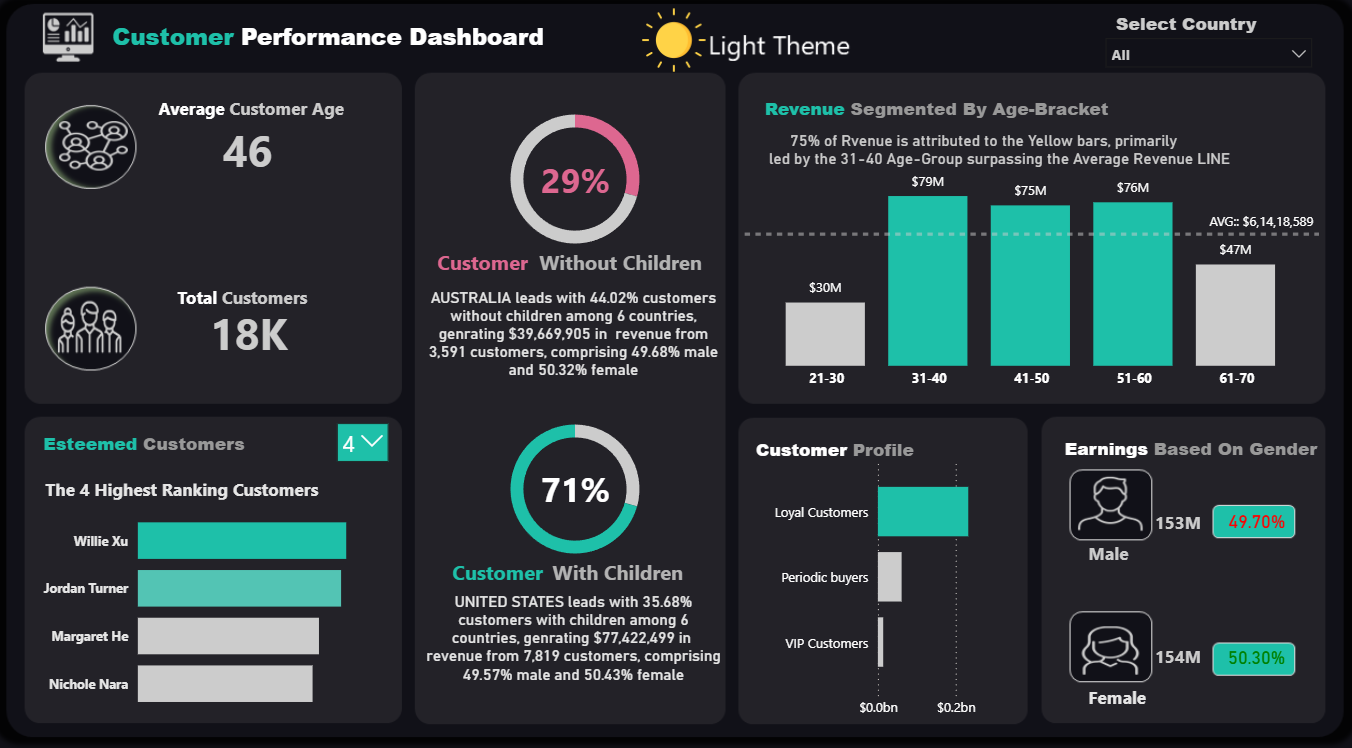

The page's visual inventory and layout, read from the dashboard file:
{"tool":"powerbi","page":{"name":"Page 1","canvas":[1280,720],"ordinal":0},"visuals":[{"type":"lineClusteredColumnComboChart","fields":{"Category":["DimCustomer.Age Category"],"Y":["All measures.Total Revenue"]},"box":[700,159.3,544.2,223.3],"z":0},{"type":"card","fields":{"Values":["customer measures.avg caption"]},"box":[655.8,111.6,543,80.2],"z":1000},{"type":"textbox","box":[718.6,79.1,384.9,64],"z":2000},{"type":"donutChart","fields":{"Y":["customer measures.% cw/oc","customer measures.% cwc"]},"box":[451.5,99,192,160],"z":3000},{"type":"donutChart","fields":{"Y":["customer measures.% cw/oc","customer measures.% cwc"]},"box":[451.5,387,192,160],"z":4000},{"type":"card","fields":{"Values":["customer measures.% cw/oc"]},"box":[483.5,131,128,96],"z":5000},{"type":"card","fields":{"Values":["customer measures.% cwc"]},"box":[483.5,435,128,64],"z":6000},{"type":"textbox","box":[414,238.4,266.3,40.7],"z":7000},{"type":"textbox","box":[427.9,526.7,239.5,44.2],"z":8000},{"type":"card","fields":{"Values":["customer measures.caption customers without children"]},"box":[395.3,266.3,304.7,111.6],"z":9000},{"type":"card","fields":{"Values":["customer measures.caption customers with children"]},"box":[395.3,548.8,304.7,112.8],"z":10000},{"type":"clusteredBarChart","fields":{"Y":["All measures.Total Revenue"],"Category":["DimCustomer.customer type"]},"box":[720.9,427.9,239.5,260.5],"z":11000},{"type":"clusteredBarChart","fields":{"Category":["DimCustomer.Full Name"],"Y":["customer measures.dynamic customers"]},"box":[46.5,467.4,298.8,222.1],"z":12000},{"type":"slicer","fields":{"Values":["dynamic customers.dynamic customers"]},"box":[315.1,395.3,68.6,53.5],"z":13000},{"type":"card","fields":{"Values":["customer measures.% female"]},"box":[1147.7,605.8,66.3,38.4],"z":14000},{"type":"card","fields":{"Values":["customer measures.% male"]},"box":[1148.8,479.1,65.1,38.4],"z":15000},{"type":"card","fields":{"Values":["customer measures.Avg customer Age"]},"box":[195.3,95.3,94.2,112.8],"z":16000},{"type":"card","fields":{"Values":["customer measures.#customers"]},"box":[198.8,286,89.5,72.1],"z":17000},{"type":"textbox","box":[154.7,96.5,215.1,54.7],"z":18000},{"type":"textbox","box":[172.1,272.1,141.9,52.3],"z":19000},{"type":"textbox","box":[1019.8,510.5,59.3,31.4],"z":20000},{"type":"textbox","box":[1019.8,644.2,67.4,43],"z":21000},{"type":"card","fields":{"Values":["customer measures.title top customers"]},"box":[47.7,454.7,267.4,25.6],"z":22000},{"type":"textbox","box":[47.7,390.7,211.6,64],"z":23000},{"type":"textbox","box":[997.7,395.3,260.5,64],"z":24000},{"type":"card","fields":{"Values":["customer measures.female revenue"]},"box":[1079.1,610.5,58.1,29.1],"z":25000},{"type":"card","fields":{"Values":["customer measures.male revenue"]},"box":[1079.1,483.7,58.1,33.7],"z":26000},{"type":"textbox","box":[111.6,8.1,447.7,70.9],"z":27000},{"type":"slicer","fields":{"Values":["DimGeography.Country"]},"box":[1030.2,37.2,212.8,59.3],"z":28000},{"type":"textbox","box":[1045.4,0,184.9,59.3],"z":29000},{"type":"textbox","box":[710.5,396.5,179.1,53.5],"z":30000},{"type":"image","box":[611.6,30.2,68.6,39.5],"z":31000}]}

Visuals, with their boxes in screenshot pixels (x1, y1, x2, y2), scaled from the page's 1280x720 canvas onto the 1352x748 screenshot:
lineClusteredColumnComboChart - DimCustomer.Age Category x All measures.Total Revenue: [739, 165, 1314, 397]
card - customer measures.avg caption: [693, 116, 1266, 199]
textbox: [759, 82, 1166, 149]
donutChart - customer measures.% cw/oc x customer measures.% cwc: [477, 103, 680, 269]
donutChart - customer measures.% cw/oc x customer measures.% cwc: [477, 402, 680, 568]
card - customer measures.% cw/oc: [511, 136, 646, 236]
card - customer measures.% cwc: [511, 452, 646, 518]
textbox: [437, 248, 719, 290]
textbox: [452, 547, 705, 593]
card - customer measures.caption customers without children: [418, 277, 739, 393]
card - customer measures.caption customers with children: [418, 570, 739, 687]
clusteredBarChart - All measures.Total Revenue x DimCustomer.customer type: [761, 445, 1014, 715]
clusteredBarChart - DimCustomer.Full Name x customer measures.dynamic customers: [49, 486, 365, 716]
slicer - dynamic customers.dynamic customers: [333, 411, 405, 466]
card - customer measures.% female: [1212, 629, 1282, 669]
card - customer measures.% male: [1213, 498, 1282, 538]
card - customer measures.Avg customer Age: [206, 99, 306, 216]
card - customer measures.#customers: [210, 297, 305, 372]
textbox: [163, 100, 391, 157]
textbox: [182, 283, 332, 337]
textbox: [1077, 530, 1140, 563]
textbox: [1077, 669, 1148, 714]
card - customer measures.title top customers: [50, 472, 333, 499]
textbox: [50, 406, 274, 472]
textbox: [1054, 411, 1329, 477]
card - customer measures.female revenue: [1140, 634, 1201, 664]
card - customer measures.male revenue: [1140, 503, 1201, 538]
textbox: [118, 8, 591, 82]
slicer - DimGeography.Country: [1088, 39, 1313, 100]
textbox: [1104, 0, 1300, 62]
textbox: [750, 412, 940, 468]
image: [646, 31, 718, 72]
